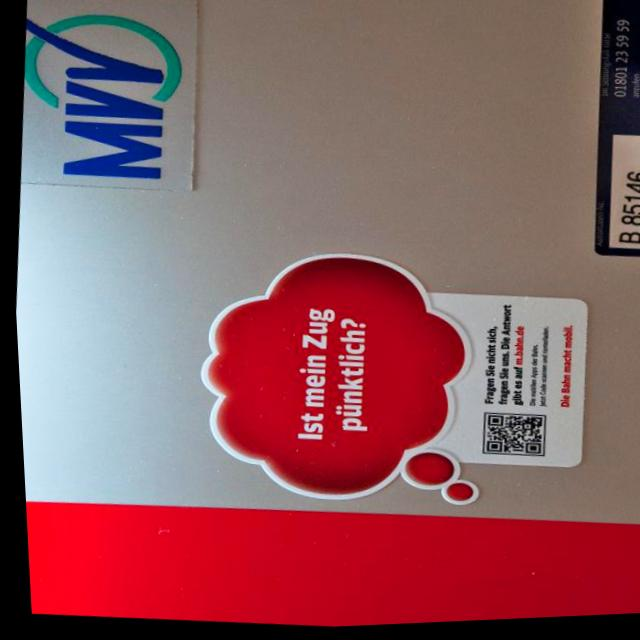qrcode: (480, 418, 539, 460)
